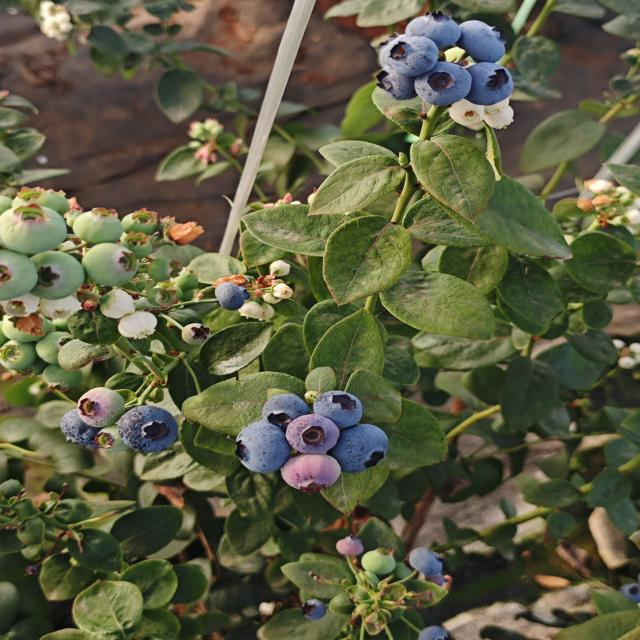ripe: (221, 422, 290, 474), (114, 401, 186, 450), (456, 10, 514, 64), (458, 61, 526, 107), (401, 6, 467, 51), (411, 58, 472, 106), (370, 61, 432, 105), (375, 31, 433, 78), (341, 423, 393, 470), (250, 390, 315, 426), (400, 541, 461, 579), (282, 413, 340, 448), (302, 391, 364, 420), (57, 409, 106, 445), (294, 592, 334, 624), (213, 279, 251, 311), (398, 620, 458, 640)
